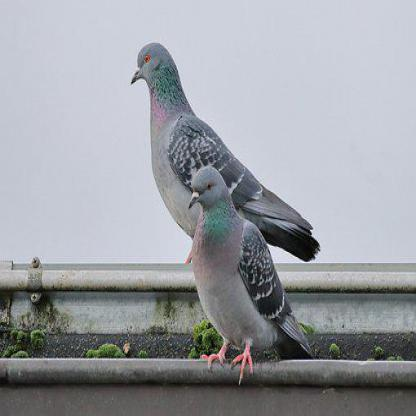Rock Pigeon: (190, 169, 300, 352), (131, 39, 270, 170)
